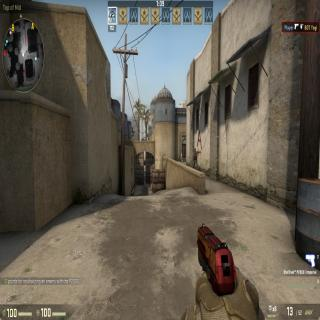T-Body: (192, 147, 197, 169)
T-Head: (193, 146, 196, 152)
